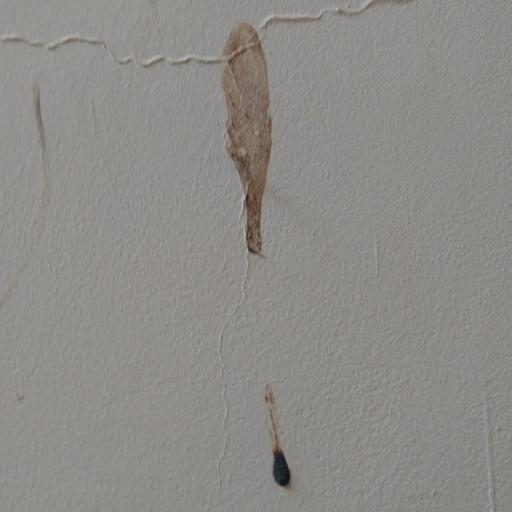stain: (206, 9, 287, 263), (5, 71, 69, 310), (236, 373, 306, 496)
